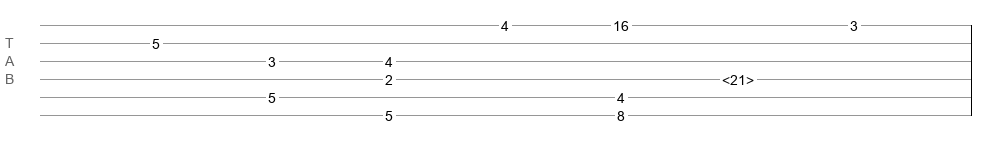16: (613, 18, 629, 28)
2: (385, 72, 393, 82)
3: (268, 54, 276, 64), (850, 18, 858, 28)
4: (385, 54, 393, 64), (501, 18, 509, 28), (617, 90, 625, 100)
5: (152, 36, 160, 46), (268, 90, 276, 100), (385, 108, 393, 118)
8: (617, 108, 625, 118)
harmonic: (722, 72, 754, 82)
